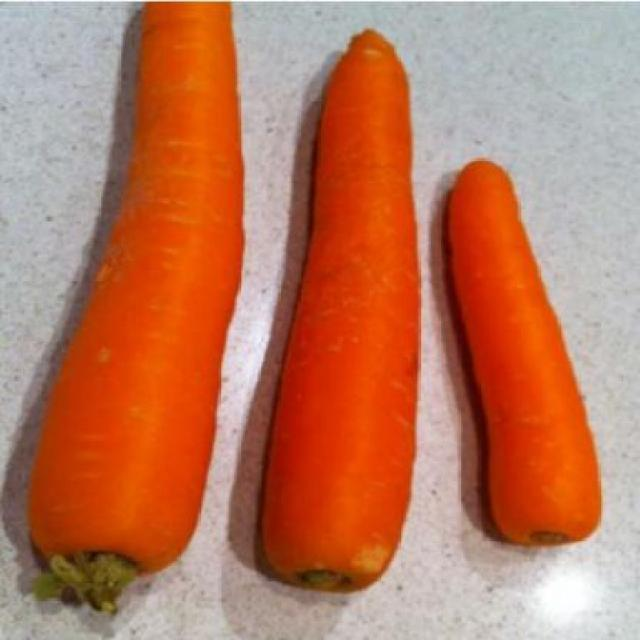carrot: (30, 2, 244, 620), (251, 28, 420, 600), (442, 159, 606, 553)
